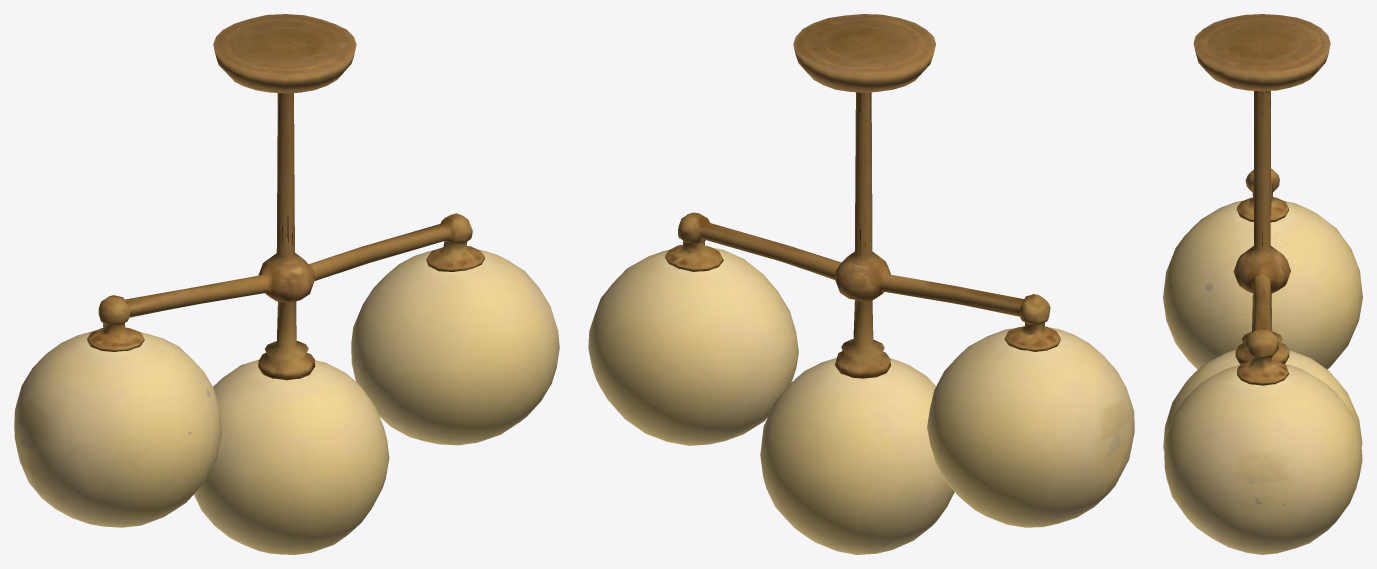
File: globe_chandelier.glb
3 views of the same model, side by side, from view 1: azimuth 30°, elevation 25°; view 2: azimuth 150°, elevation 25°; view 3: azimuth 270°, elevation 25° (orthographic). The views are drawn at different scales.
Parts seen in each view (by area): view 1: geometry_0; view 2: geometry_0; view 3: geometry_0.
Boxes of the visible parts, x1,y1,x2,y2 form: geometry_0: (14, 14, 559, 554); geometry_0: (588, 14, 1134, 554); geometry_0: (1163, 14, 1362, 554).
Bounding box in the file's own units: 1 × 0.9388 × 0.3489.
Materials: 1 (1 with a texture image).
